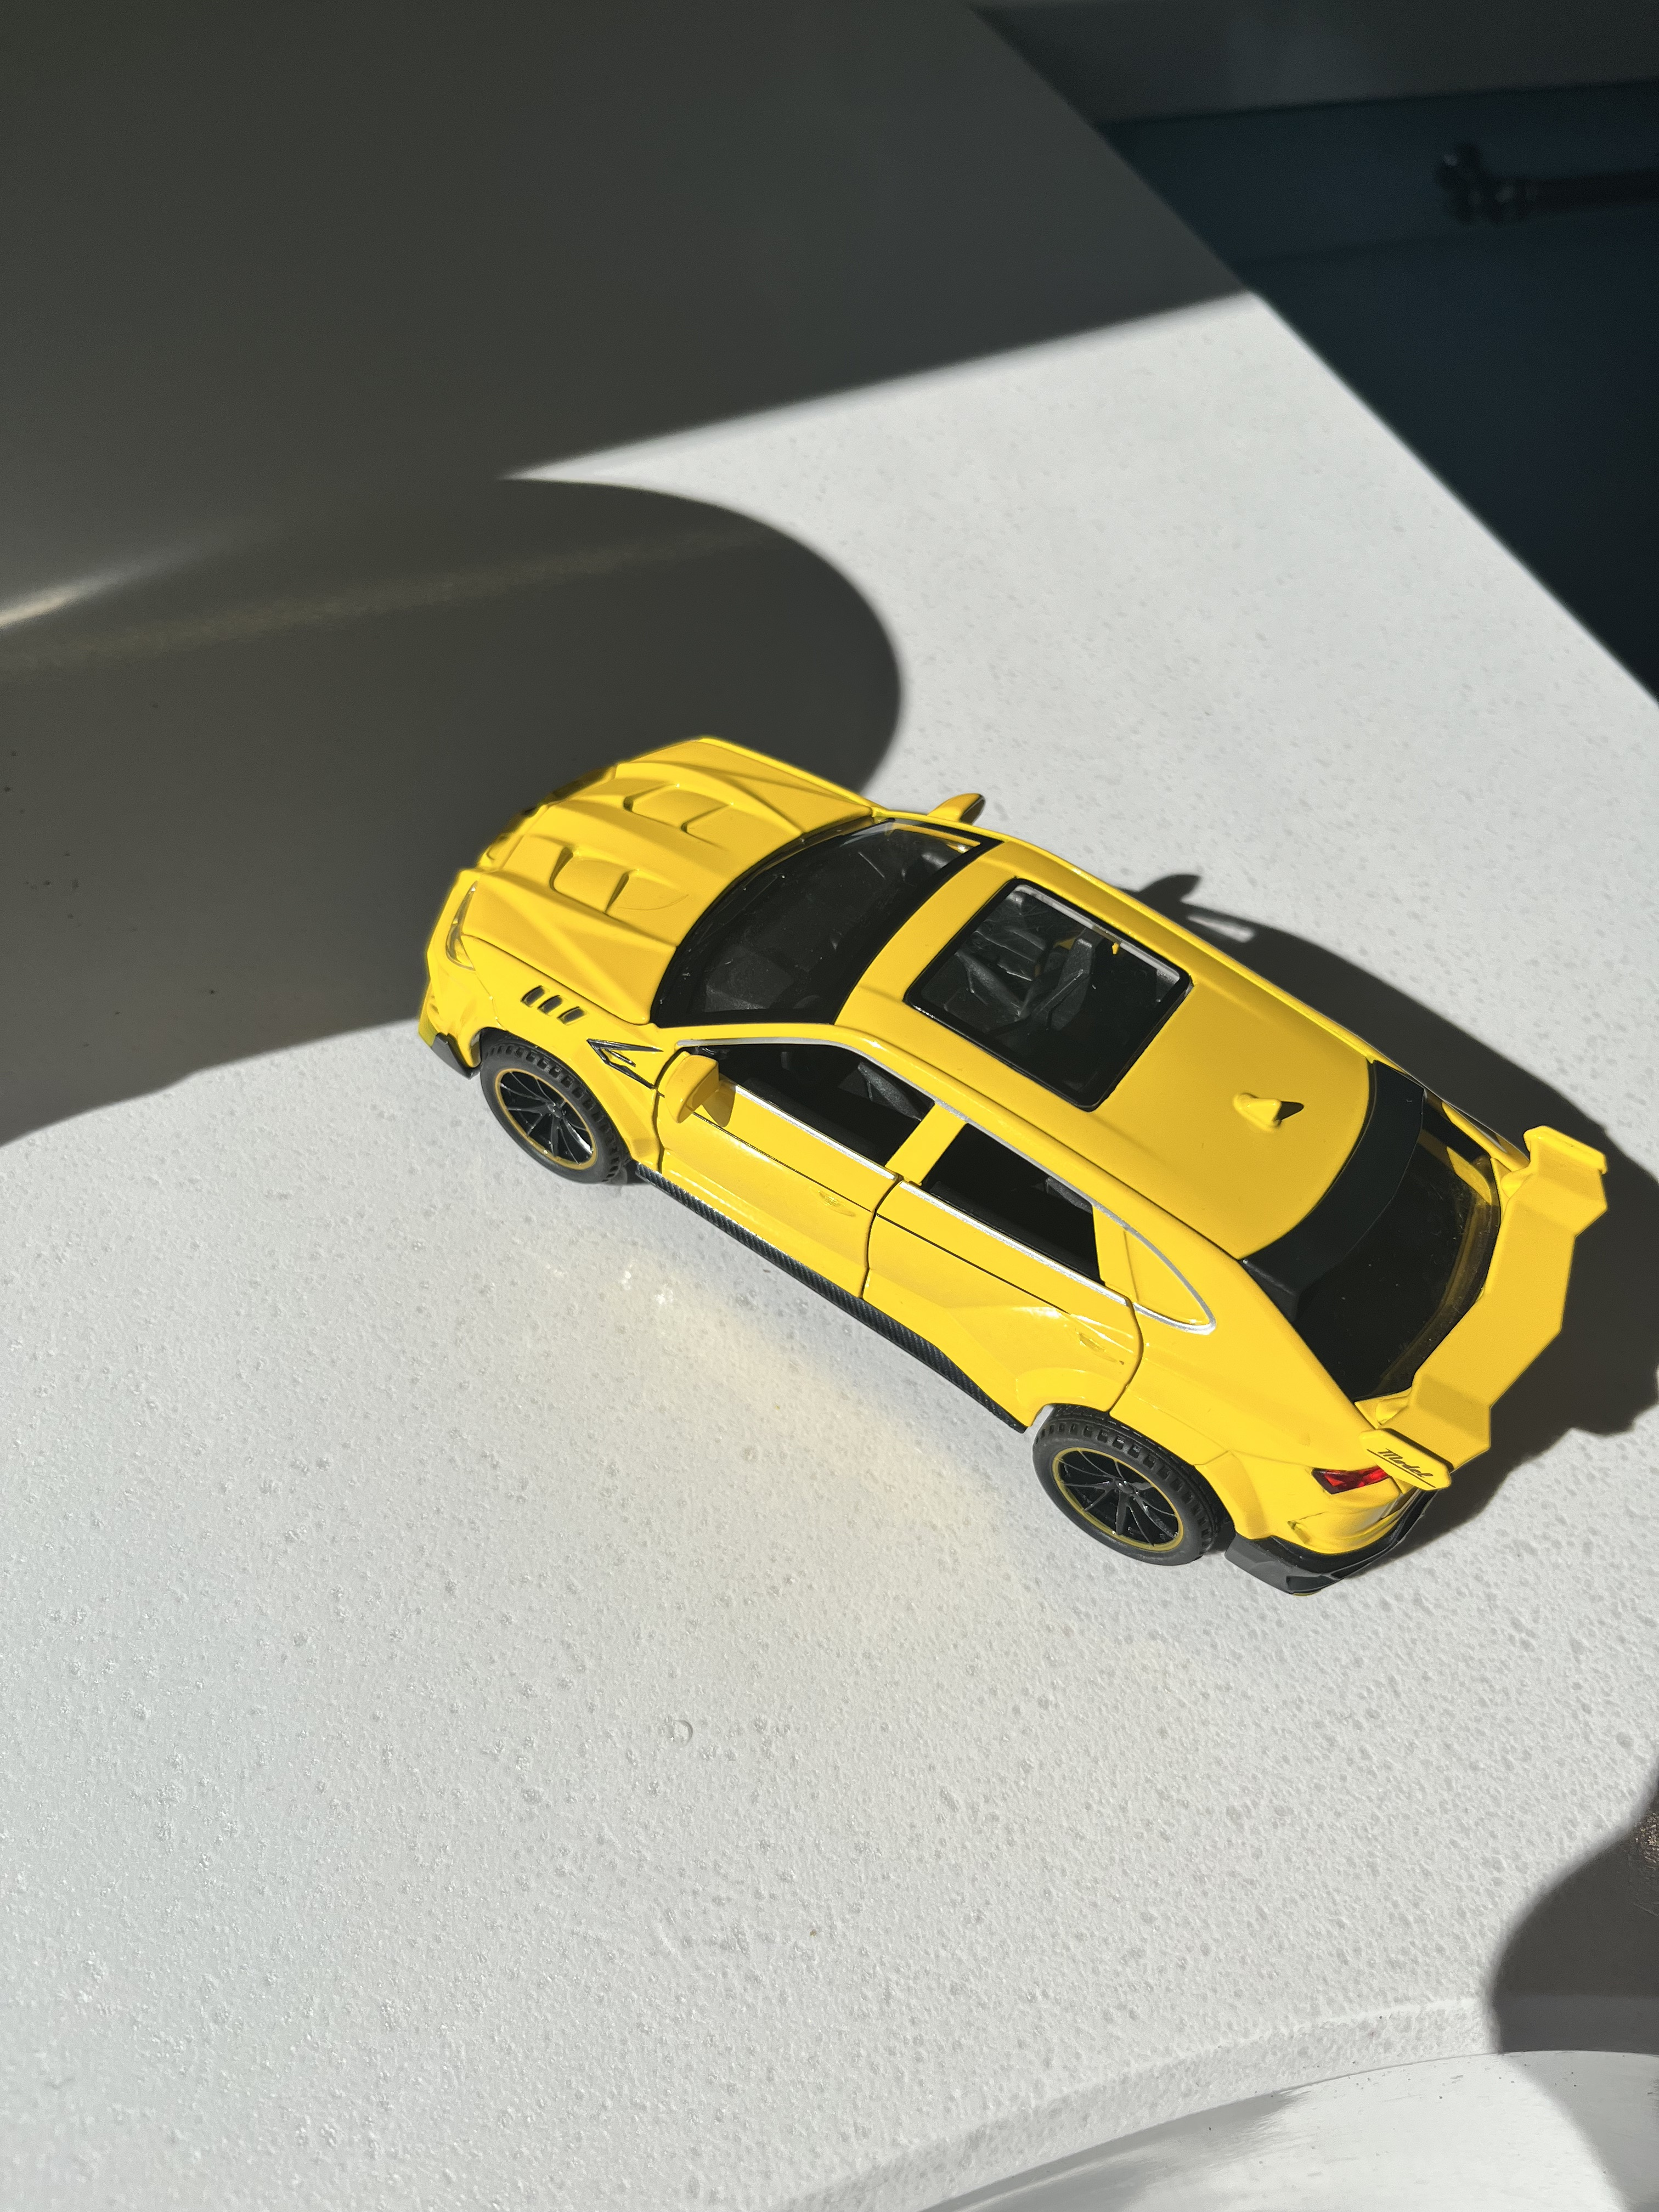lambo: (390, 735, 1624, 1627)
